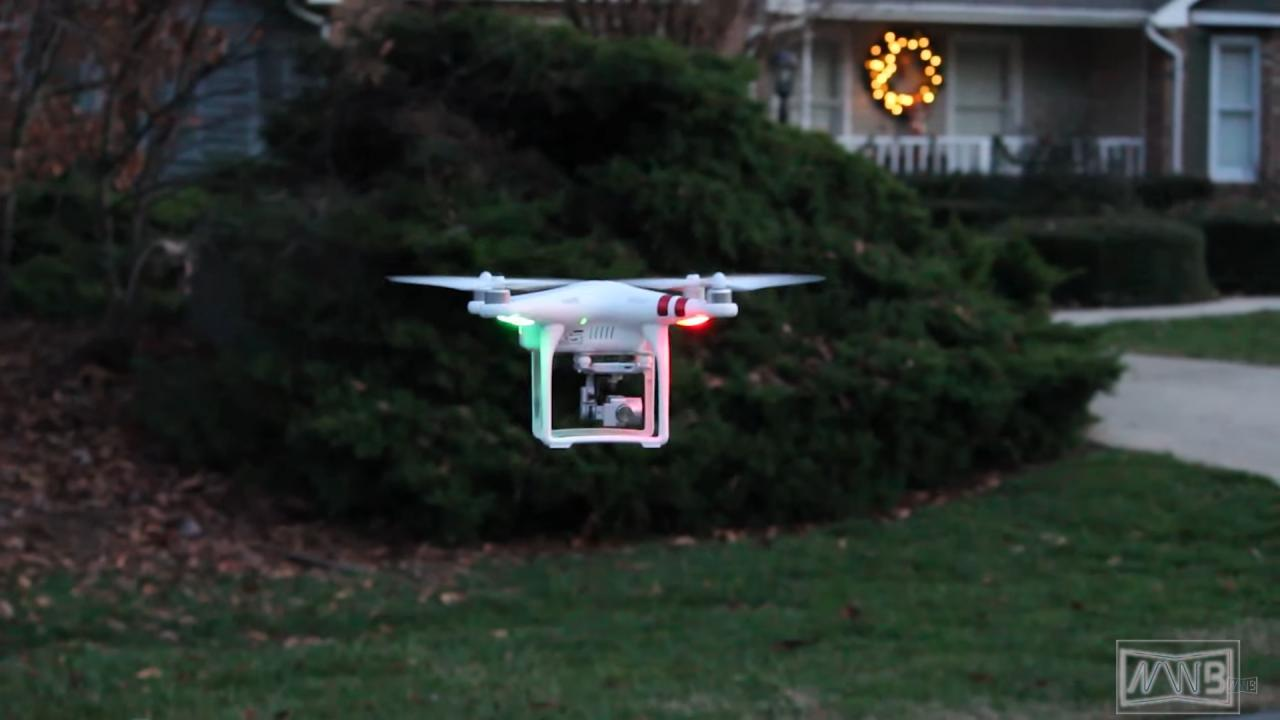Drone: (372, 250, 846, 464)
